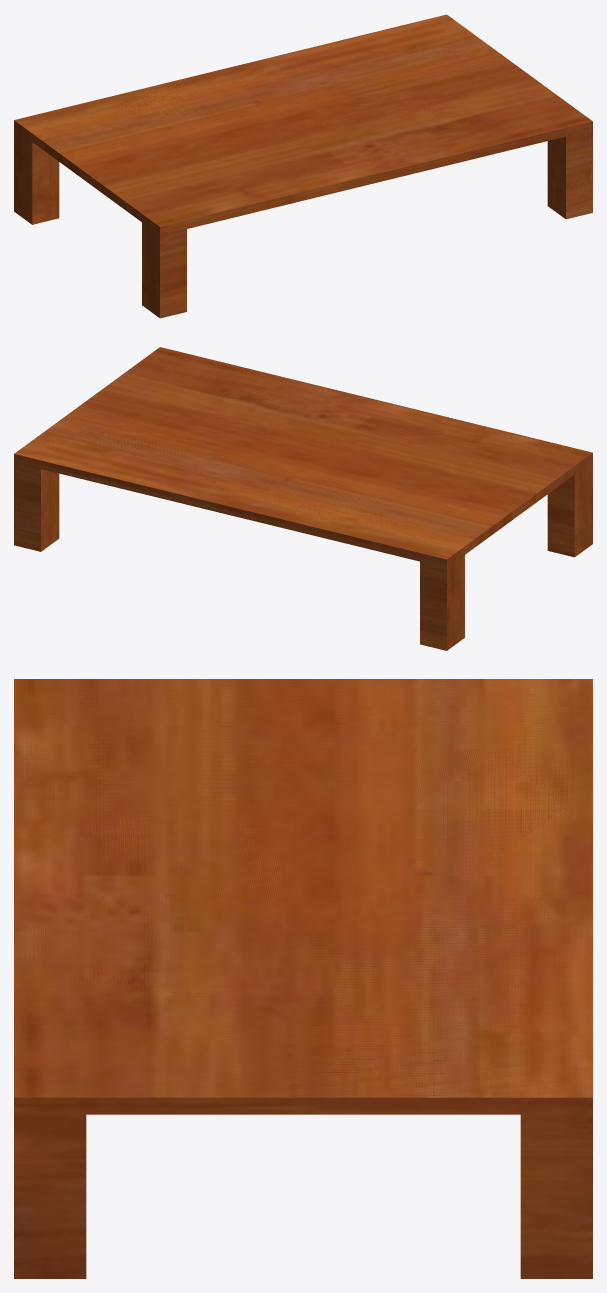
Rendered from wood table.fbx.
The picture shows the model from 3 angles, top to bottom: view 1: azimuth 30°, elevation 25°; view 2: azimuth 150°, elevation 25°; view 3: azimuth 270°, elevation 25°; orthographic projection. The views are drawn at different scales.
Parts seen in each view (by area): view 1: SketchUp; view 2: SketchUp; view 3: SketchUp.
Boxes of the visible parts, x1,y1,x2,y2 form: SketchUp: (14,14,592,318); SketchUp: (14,347,592,650); SketchUp: (14,679,592,1278).
Bounding box in the file's own units: 134 × 26.98 × 78.14.
